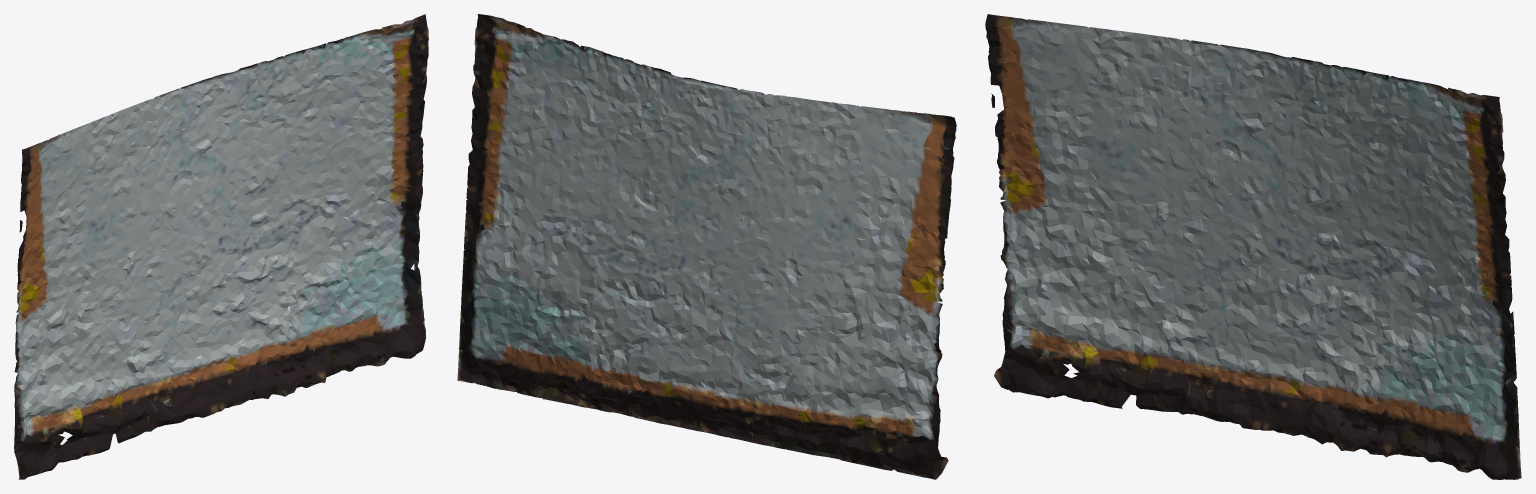
Rendered from crtscreen.gltf.
3 views of the same model, side by side, from view 1: azimuth 30°, elevation 25°; view 2: azimuth 150°, elevation 25°; view 3: azimuth 330°, elevation 25° (orthographic). The views are drawn at different scales.
Parts seen in each view (by area): view 1: texturedMesh.002; view 2: texturedMesh.002; view 3: texturedMesh.002.
Boxes of the visible parts, x1=… form: texturedMesh.002: x1=14, y1=14, x2=428, y2=479; texturedMesh.002: x1=457, y1=14, x2=956, y2=479; texturedMesh.002: x1=985, y1=14, x2=1521, y2=479.
Bounding box in the file's own units: 1.21 × 0.9293 × 0.1915.
